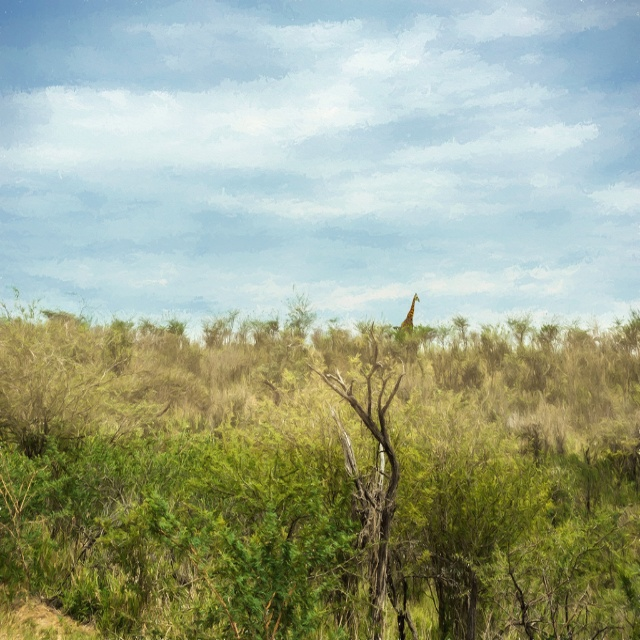Giraffe: (398, 291, 418, 333)
